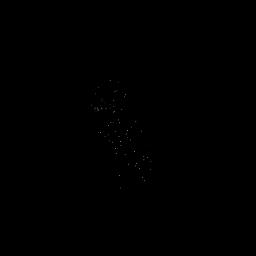boat: (84, 74, 162, 192)
